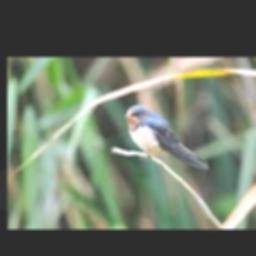Swallow: (126, 104, 211, 169)
